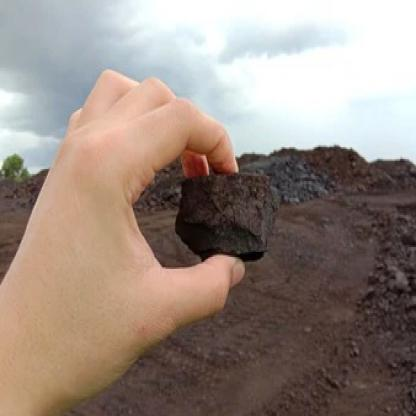Sedimentary_coal: (174, 174, 276, 257)
